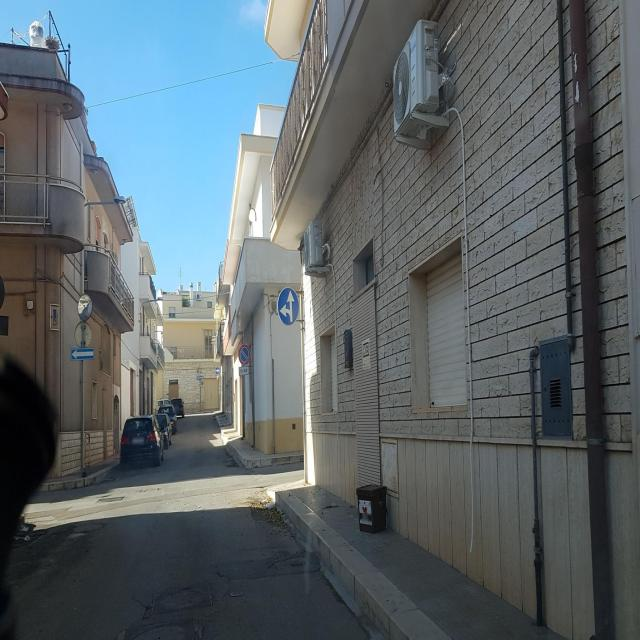forb_stopping: (238, 344, 251, 366)
